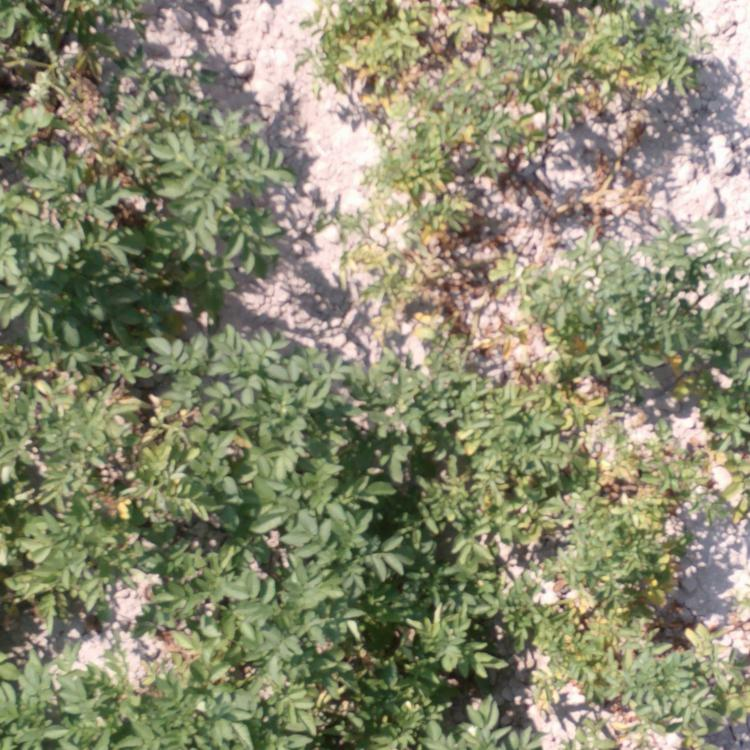healthy: (80, 541, 464, 648), (1, 157, 291, 296), (180, 332, 333, 536), (226, 654, 498, 750), (1, 649, 218, 750), (592, 239, 749, 360), (337, 372, 438, 542), (1, 381, 73, 600), (1, 300, 175, 382), (156, 73, 274, 156), (1, 1, 154, 49), (1, 54, 49, 158), (695, 363, 750, 430)
stressed: (339, 224, 524, 370), (449, 375, 589, 540), (490, 1, 690, 110), (306, 1, 488, 107), (595, 623, 750, 746), (361, 106, 516, 222), (584, 432, 679, 611), (76, 386, 180, 533), (467, 542, 574, 644), (57, 57, 148, 155), (591, 356, 693, 428), (531, 266, 595, 364), (689, 432, 748, 524), (525, 648, 580, 706)
